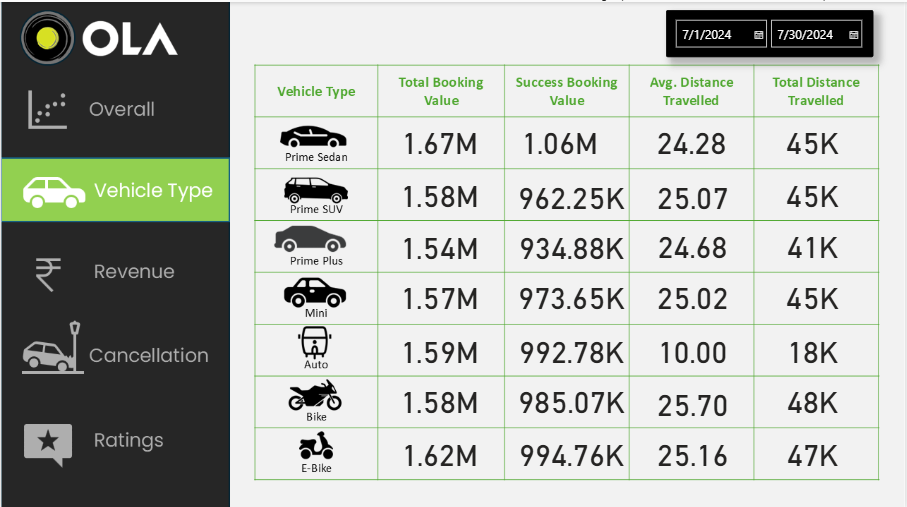

Layout of this report page (visuals, bound fields, positions):
{"tool":"powerbi","page":{"name":"Vehicle Type","canvas":[1280,720],"ordinal":1},"visuals":[{"type":"actionButton","box":[0,338.7,324.6,90.7],"z":0},{"type":"actionButton","box":[0,446.5,324.6,90.7],"z":1000},{"type":"actionButton","box":[0,579.7,324.6,90.7],"z":2000},{"type":"actionButton","box":[0,106.3,324.6,90.7],"z":3000},{"type":"card","fields":{"Values":["Sum(July.Booking_Value)"]},"box":[535.9,164.6,171.3,63.8],"z":4000},{"type":"card","fields":{"Values":["Sum(July.Booking_Value)"]},"box":[535.9,240.2,171.3,63.8],"z":5000},{"type":"card","fields":{"Values":["Sum(July.Booking_Value)"]},"box":[535.9,304,171.3,80.6],"z":6000},{"type":"card","fields":{"Values":["Sum(July.Booking_Value)"]},"box":[535.9,384.7,171.3,63.8],"z":7000},{"type":"card","fields":{"Values":["Sum(July.Booking_Value)"]},"box":[535.9,524.1,171.3,77.3],"z":8000},{"type":"card","fields":{"Values":["Sum(July.Booking_Value)"]},"box":[535.9,460.3,171.3,63.8],"z":9000},{"type":"card","fields":{"Values":["Sum(July.Booking_Value)"]},"box":[535.9,606.4,171.3,63.8],"z":10000},{"type":"card","fields":{"Values":["Sum(July.Booking_Value)"]},"box":[705.8,164.4,171.5,63.8],"z":11000},{"type":"card","fields":{"Values":["Sum(July.Booking_Value)"]},"box":[722.3,241.9,171.3,63.8],"z":12000},{"type":"card","fields":{"Values":["Sum(July.Booking_Value)"]},"box":[722.3,304,171.3,80.6],"z":13000},{"type":"card","fields":{"Values":["Sum(July.Booking_Value)"]},"box":[722.3,384.7,171.3,63.8],"z":14000},{"type":"card","fields":{"Values":["Sum(July.Booking_Value)"]},"box":[722.3,460.3,171.3,63.8],"z":15000},{"type":"card","fields":{"Values":["Sum(July.Booking_Value)"]},"box":[722.3,524.1,171.3,77.3],"z":16000},{"type":"card","fields":{"Values":["Sum(July.Booking_Value)"]},"box":[722.3,606.4,171.3,63.8],"z":17000},{"type":"card","fields":{"Values":["Avg(July.Ride_Distance)"]},"box":[892.9,164.4,171.5,63.8],"z":18000},{"type":"card","fields":{"Values":["Avg(July.Ride_Distance)"]},"box":[893.6,241.9,171.3,63.8],"z":19000},{"type":"card","fields":{"Values":["Avg(July.Ride_Distance)"]},"box":[893.6,312.4,171.3,63.8],"z":20000},{"type":"card","fields":{"Values":["Avg(July.Ride_Distance)"]},"box":[893.6,384.7,171.3,63.8],"z":21000},{"type":"card","fields":{"Values":["Avg(July.Ride_Distance)"]},"box":[893.6,460.3,171.3,63.8],"z":22000},{"type":"card","fields":{"Values":["Avg(July.Ride_Distance)"]},"box":[893.6,524.1,171.3,85.7],"z":23000},{"type":"card","fields":{"Values":["Avg(July.Ride_Distance)"]},"box":[893.6,594.6,171.3,85.7],"z":24000},{"type":"card","fields":{"Values":["Sum(July.Ride_Distance)"]},"box":[1065,164.6,171.3,63.8],"z":25000},{"type":"card","fields":{"Values":["Sum(July.Ride_Distance)"]},"box":[1065,240.2,171.3,63.8],"z":26000},{"type":"card","fields":{"Values":["Sum(July.Ride_Distance)"]},"box":[1065,312.4,171.3,63.8],"z":27000},{"type":"card","fields":{"Values":["Sum(July.Ride_Distance)"]},"box":[1065,384.7,171.3,63.8],"z":28000},{"type":"card","fields":{"Values":["Sum(July.Ride_Distance)"]},"box":[1065,460.3,171.3,63.8],"z":29000},{"type":"card","fields":{"Values":["Sum(July.Ride_Distance)"]},"box":[1065,520.7,171.3,85.7],"z":30000},{"type":"card","fields":{"Values":["Sum(July.Ride_Distance)"]},"box":[1065,594.6,171.3,85.7],"z":31000},{"type":"slicer","title":"DATE","fields":{"Values":["July.Date"]},"box":[942.4,11.8,294,67.2],"z":32000}]}

Visuals, with their boxes on the page's 1280x720 design canvas (x1, y1, x2, y2). These are canvas units, not pixel positions in the 907x507 screenshot, which may show the page scaled, cropped or inside an application window:
actionButton: [0,339,325,429]
actionButton: [0,446,325,537]
actionButton: [0,580,325,670]
actionButton: [0,106,325,197]
card - Sum(July.Booking_Value): [536,165,707,228]
card - Sum(July.Booking_Value): [536,240,707,304]
card - Sum(July.Booking_Value): [536,304,707,385]
card - Sum(July.Booking_Value): [536,385,707,448]
card - Sum(July.Booking_Value): [536,524,707,601]
card - Sum(July.Booking_Value): [536,460,707,524]
card - Sum(July.Booking_Value): [536,606,707,670]
card - Sum(July.Booking_Value): [706,164,877,228]
card - Sum(July.Booking_Value): [722,242,894,306]
card - Sum(July.Booking_Value): [722,304,894,385]
card - Sum(July.Booking_Value): [722,385,894,448]
card - Sum(July.Booking_Value): [722,460,894,524]
card - Sum(July.Booking_Value): [722,524,894,601]
card - Sum(July.Booking_Value): [722,606,894,670]
card - Avg(July.Ride_Distance): [893,164,1064,228]
card - Avg(July.Ride_Distance): [894,242,1065,306]
card - Avg(July.Ride_Distance): [894,312,1065,376]
card - Avg(July.Ride_Distance): [894,385,1065,448]
card - Avg(July.Ride_Distance): [894,460,1065,524]
card - Avg(July.Ride_Distance): [894,524,1065,610]
card - Avg(July.Ride_Distance): [894,595,1065,680]
card - Sum(July.Ride_Distance): [1065,165,1236,228]
card - Sum(July.Ride_Distance): [1065,240,1236,304]
card - Sum(July.Ride_Distance): [1065,312,1236,376]
card - Sum(July.Ride_Distance): [1065,385,1236,448]
card - Sum(July.Ride_Distance): [1065,460,1236,524]
card - Sum(July.Ride_Distance): [1065,521,1236,606]
card - Sum(July.Ride_Distance): [1065,595,1236,680]
"DATE" slicer: [942,12,1236,79]
